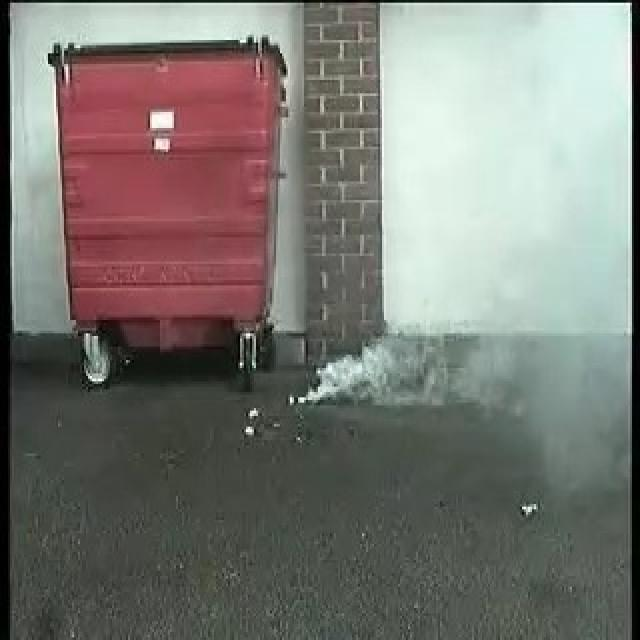smoke: (307, 309, 443, 413)
